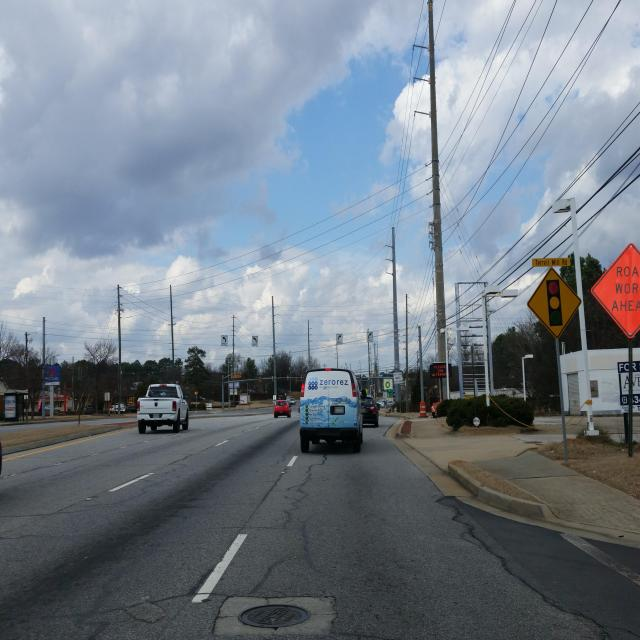Good: (238, 602, 314, 630)
